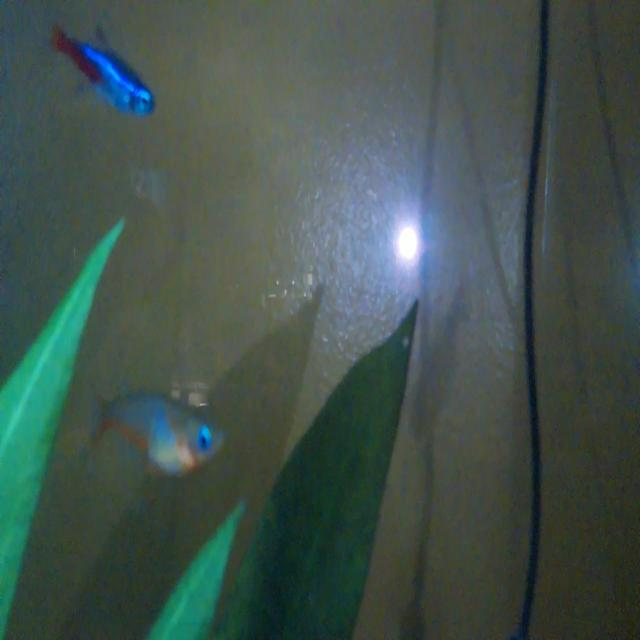fish: (88, 383, 232, 484), (41, 20, 166, 130)
